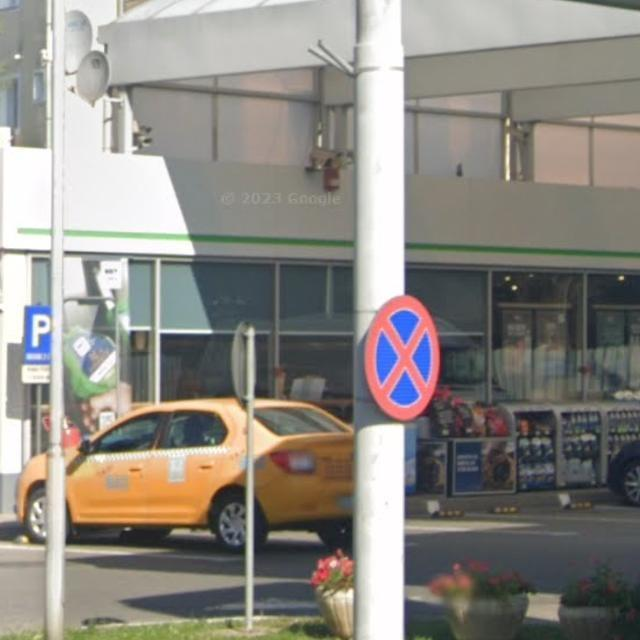forb_waiting: (364, 295, 442, 425)
